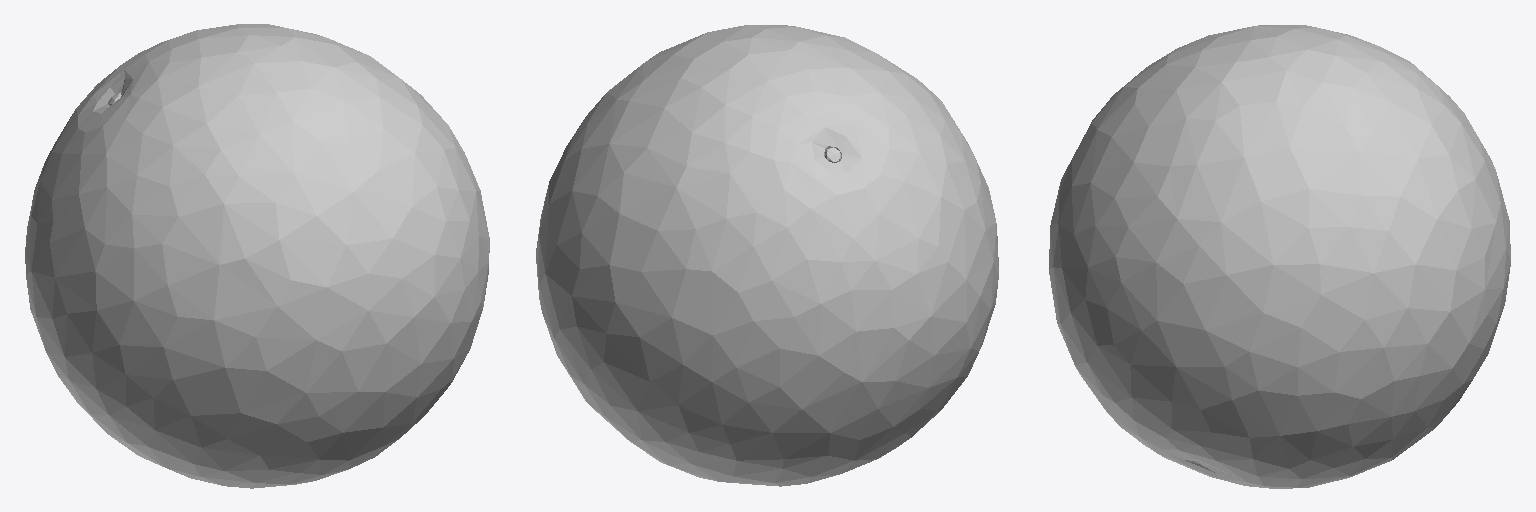
File: orange_lower_poly.obj
3 renders of one model, left to right at view 1: azimuth 30°, elevation 25°; view 2: azimuth 150°, elevation 25°; view 3: azimuth 270°, elevation 25°, orthographic.
Parts seen in each view (by area): view 1: Orange; view 2: Orange; view 3: Orange.
Boxes of the visible parts, <box> form: Orange: <box>25,24,489,488</box>; Orange: <box>536,25,998,486</box>; Orange: <box>1049,25,1510,488</box>.
Bounding box in the file's own units: 2.01 × 2 × 2.